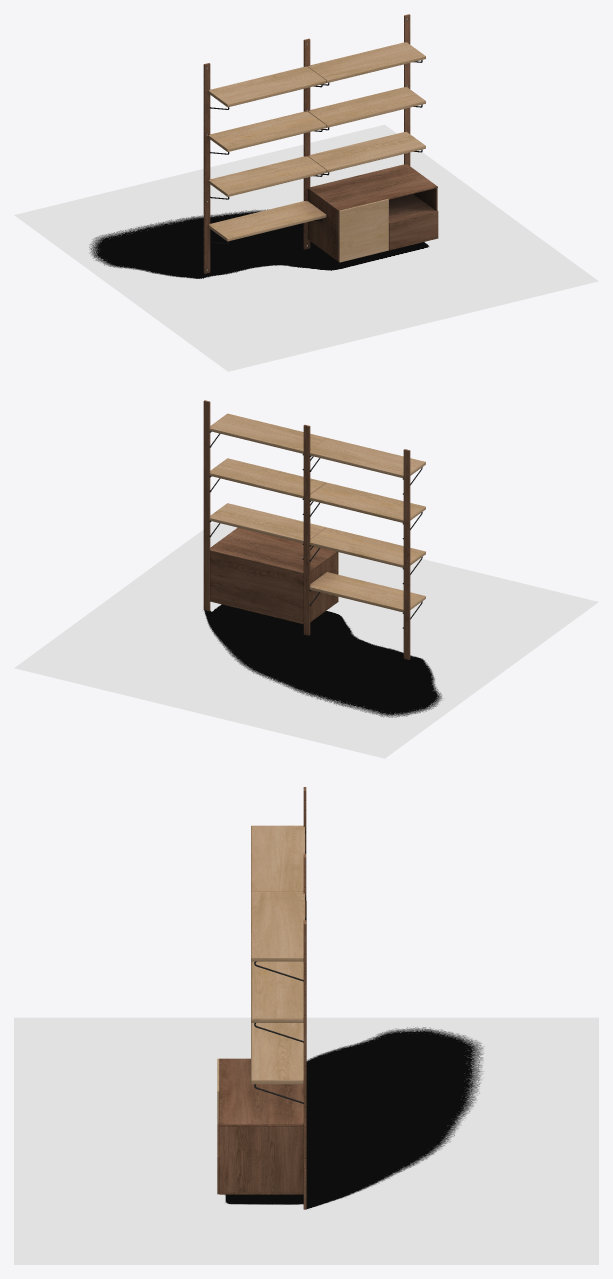
File: jory_modular_shelves_and_storage_walnut_and_oak.glb
3 renders of one model, top to bottom at view 1: azimuth 30°, elevation 25°; view 2: azimuth 150°, elevation 25°; view 3: azimuth 270°, elevation 25°, orthographic. The views are drawn at different scales.
Parts seen in each view (by area): view 1: FLOOR, OAK, WALNUT; view 2: FLOOR, OAK, WALNUT; view 3: FLOOR, OAK, WALNUT.
Boxes of the visible parts, x1,y1,x2,y2 form: FLOOR: (14, 124, 598, 371); OAK: (208, 42, 425, 262); WALNUT: (203, 14, 438, 273); FLOOR: (14, 522, 598, 758); OAK: (209, 413, 425, 612); WALNUT: (203, 400, 410, 659); FLOOR: (14, 1017, 598, 1264); OAK: (217, 825, 304, 1124); WALNUT: (217, 787, 306, 1209).
Size of the model in its own units: 334 by 180 by 334.
Materials: 5 (4 with a texture image).
